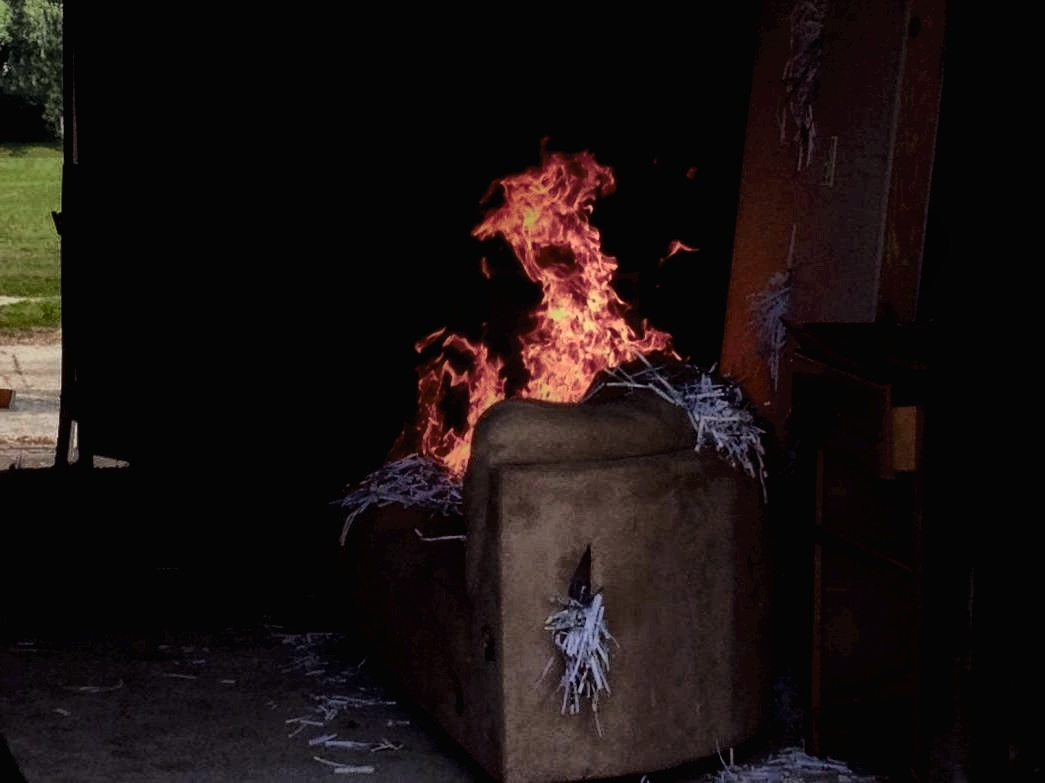fire: (378, 129, 677, 506)
